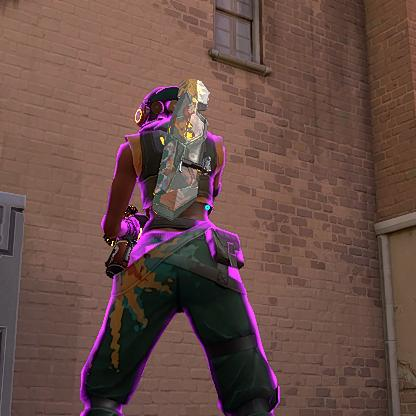enemyBody: (131, 152, 223, 253)
enemyHead: (145, 91, 201, 134)
